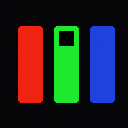1 square: (59, 31, 73, 45)
